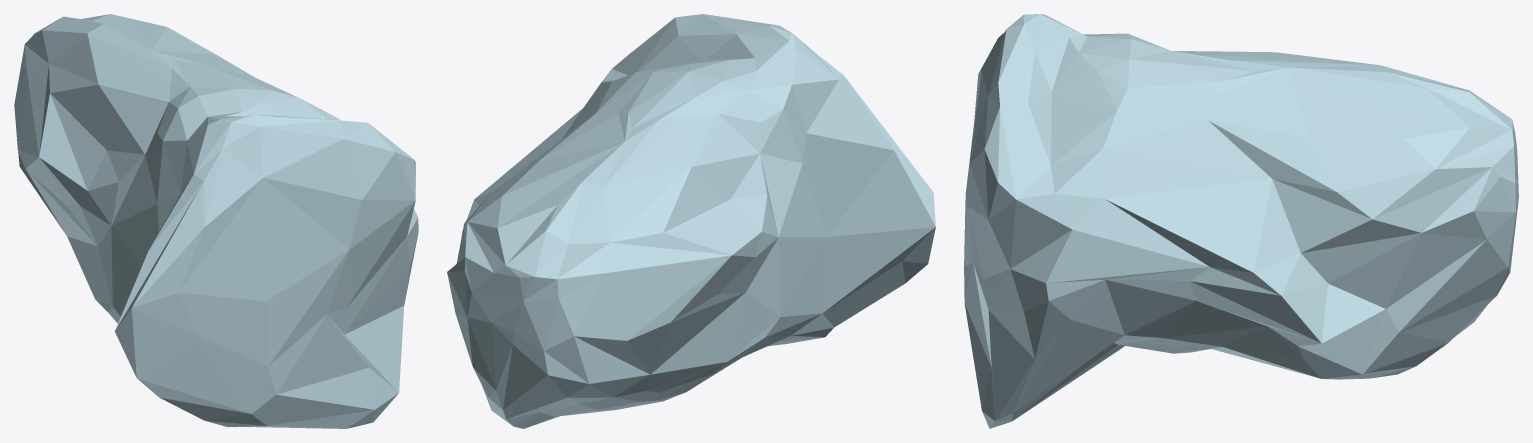
The model's file is LowPoly - Rock 01.fbx.
3 views of the same model, side by side, from view 1: azimuth 30°, elevation 25°; view 2: azimuth 150°, elevation 25°; view 3: azimuth 270°, elevation 25° (orthographic). The views are drawn at different scales.
Visible parts, largest first — view 1: LowPoly - Rock 01; view 2: LowPoly - Rock 01; view 3: LowPoly - Rock 01.
Part boxes in pixels (x1,y1,x2,y2): LowPoly - Rock 01: (14,14,418,428); LowPoly - Rock 01: (447,14,935,428); LowPoly - Rock 01: (964,14,1518,428).
Bounding box in the file's own units: 575 × 526 × 757.
